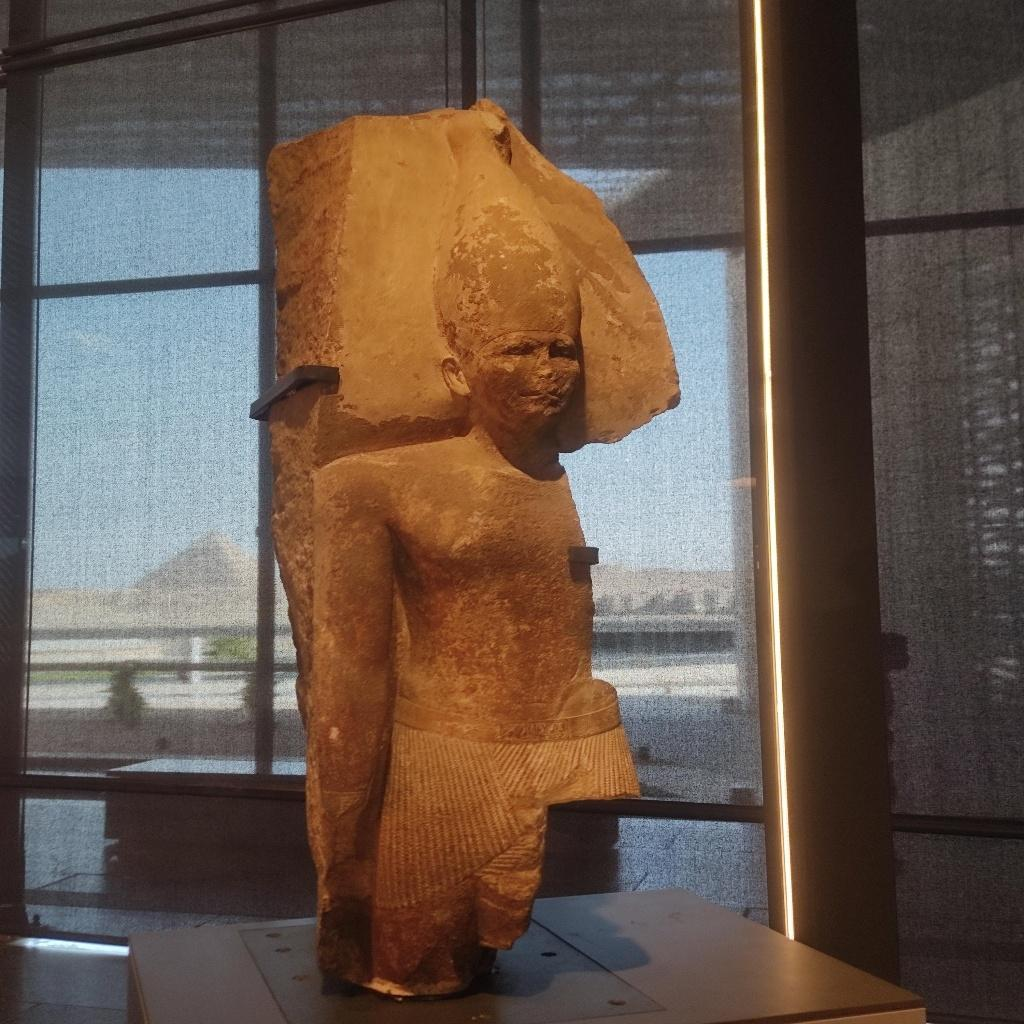Statue of Snefru: (246, 96, 685, 1000)
